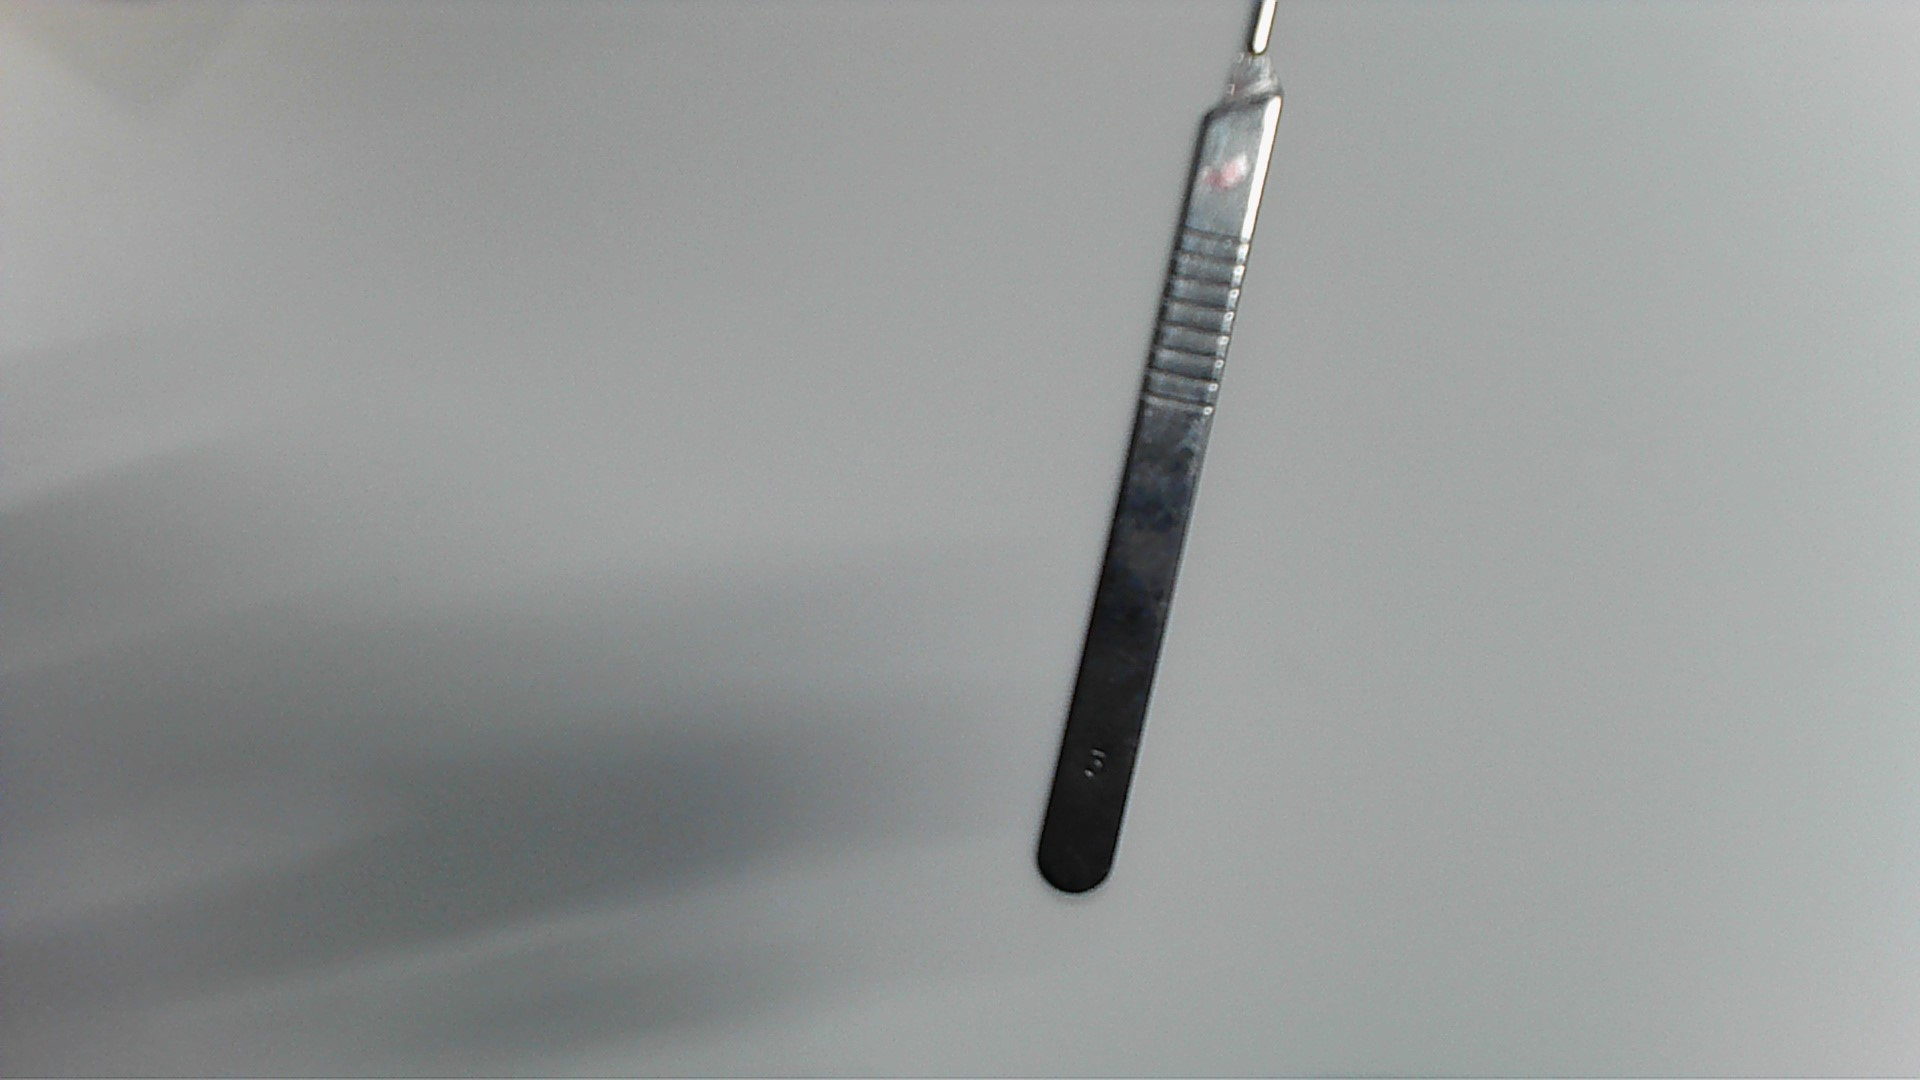Stain: (1204, 152, 1250, 186)
